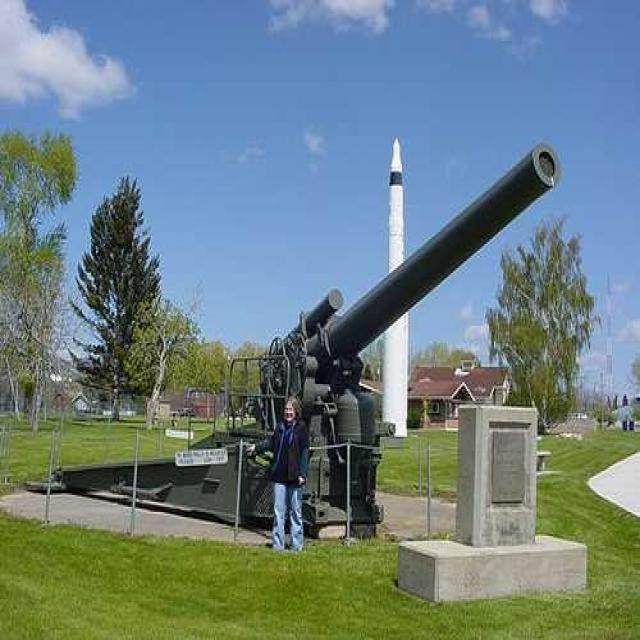missile: (381, 130, 410, 444)
